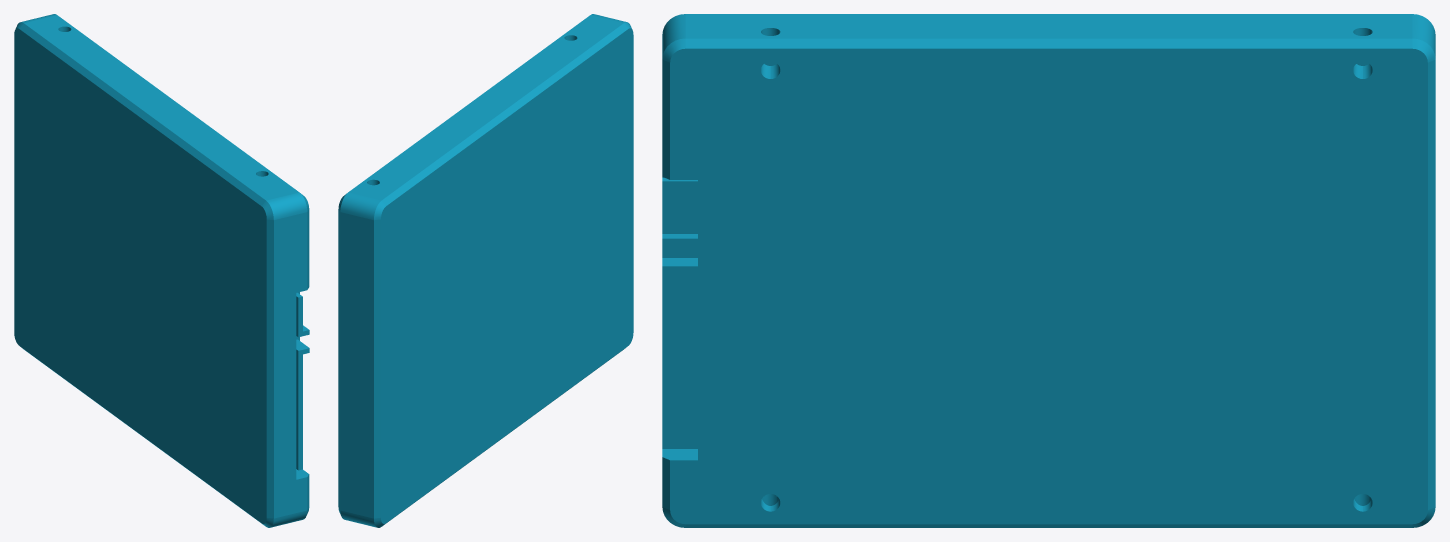
Rendered from nvme-samsung-pm9a3-1920gb-u2-RN_IXSMX.glb.
3 views of the same model, side by side, from view 1: azimuth 30°, elevation 25°; view 2: azimuth 150°, elevation 25°; view 3: azimuth 270°, elevation 25° (orthographic). The views are drawn at different scales.
Parts seen in each view (by area): view 1: 2.5" SSD v2; view 2: 2.5" SSD v2; view 3: 2.5" SSD v2.
Part boxes in pixels (<box>): 2.5" SSD v2: <box>14,14,309,527</box>; 2.5" SSD v2: <box>338,14,633,527</box>; 2.5" SSD v2: <box>662,14,1435,527</box>.
Bounding box in the file's own units: 9.5 × 69.85 × 100.
